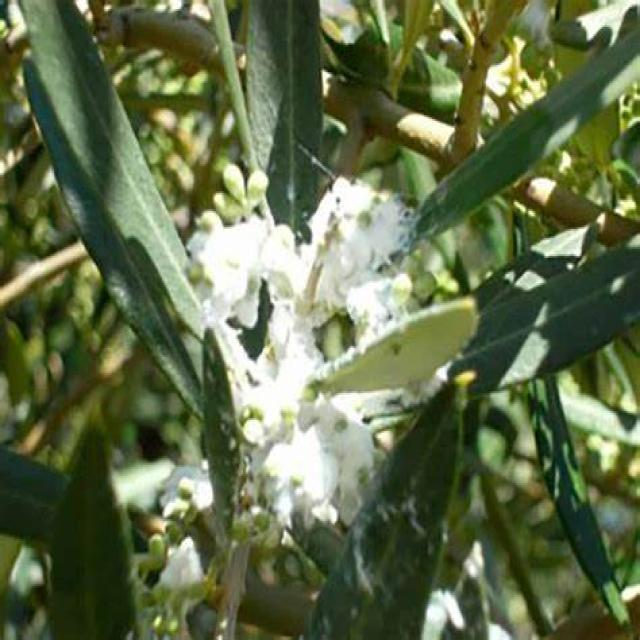Psyllid: (190, 178, 474, 526)
